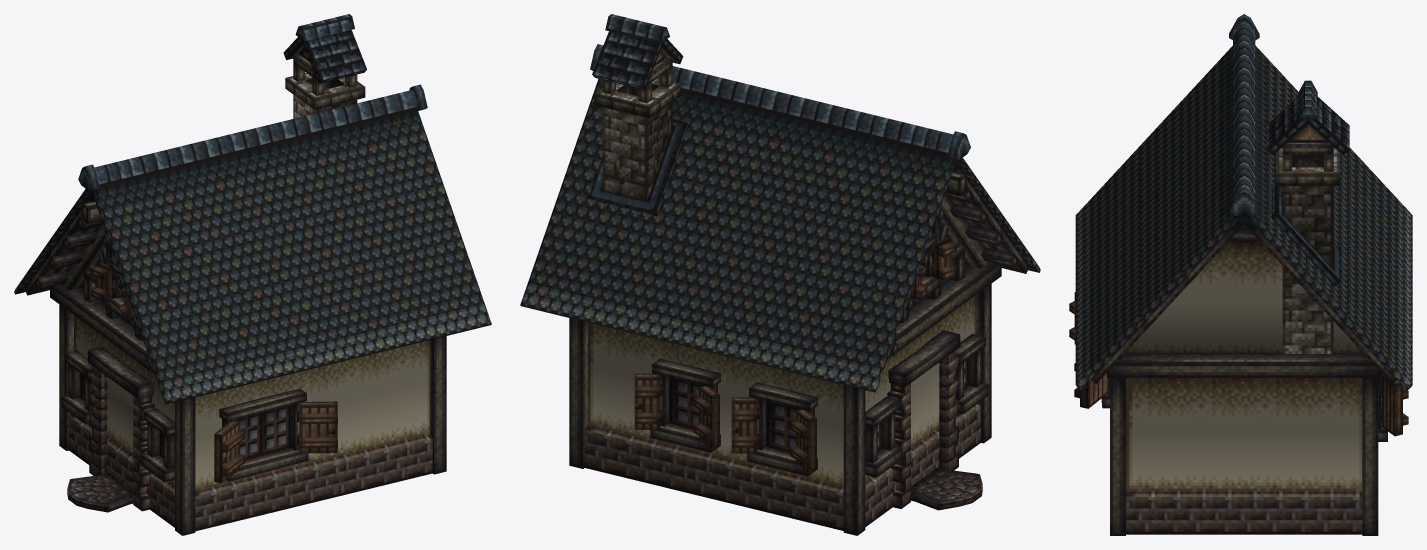
File: EnvBdgMD_Mount_A_Outdoor_House_B.FBX
3 views of the same model, side by side, from view 1: azimuth 30°, elevation 25°; view 2: azimuth 150°, elevation 25°; view 3: azimuth 270°, elevation 25° (orthographic). The views are drawn at different scales.
Parts seen in each view (by area): view 1: EnvBdgMD_Mount_A_Outdoor_House_B; view 2: EnvBdgMD_Mount_A_Outdoor_House_B; view 3: EnvBdgMD_Mount_A_Outdoor_House_B.
Part boxes in pixels (box(x1,y1,x2,y2)): EnvBdgMD_Mount_A_Outdoor_House_B: box(14, 14, 491, 535); EnvBdgMD_Mount_A_Outdoor_House_B: box(520, 14, 1040, 535); EnvBdgMD_Mount_A_Outdoor_House_B: box(1069, 14, 1412, 535).
Bounding box in the file's own units: 685 × 735 × 537.
1 material, 1 textured.
